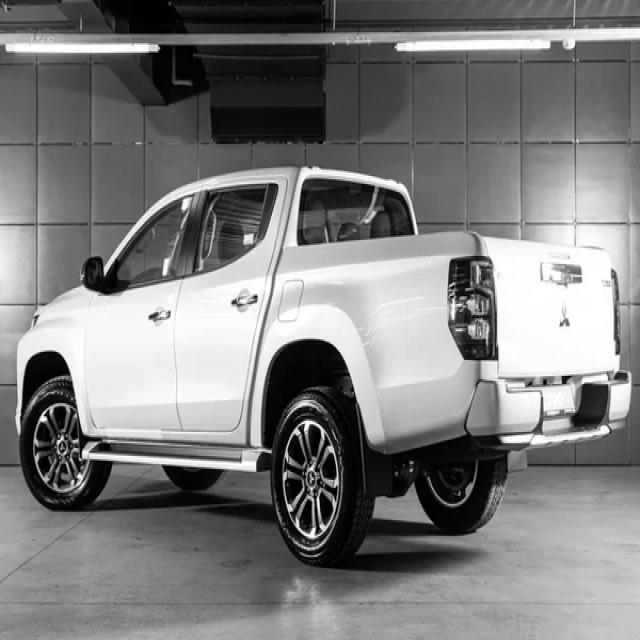Car: (15, 167, 634, 568)
